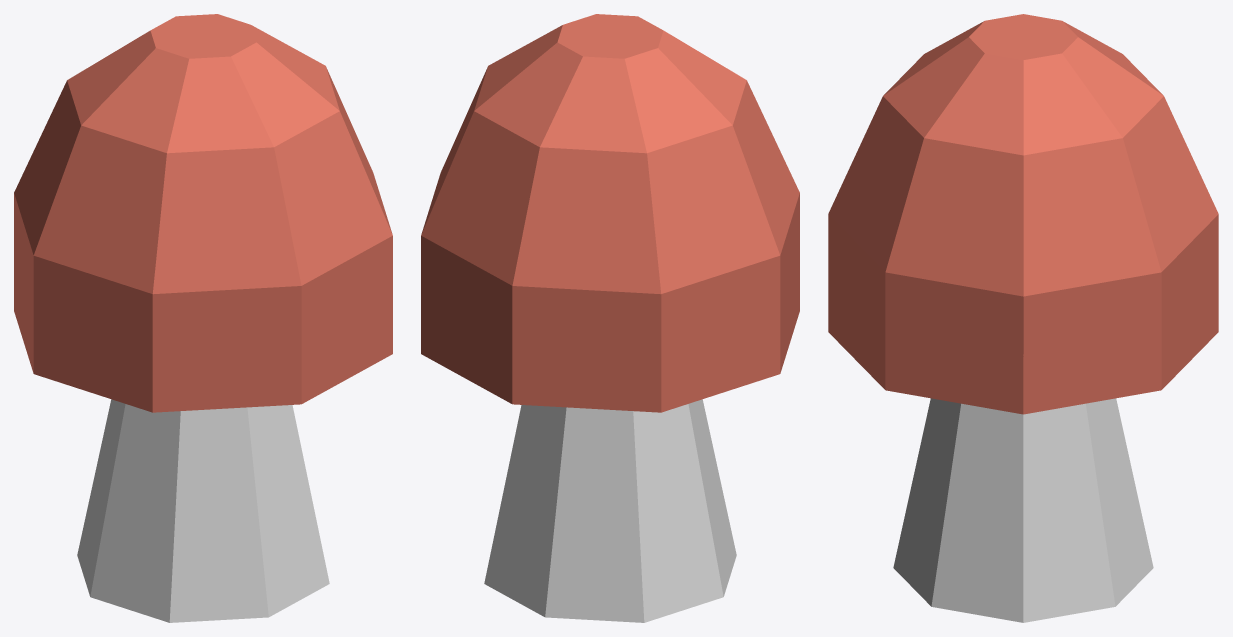
Rendered from Mushroom1a.fbx.
The picture shows the model from 3 angles, left to right: view 1: azimuth 30°, elevation 25°; view 2: azimuth 150°, elevation 25°; view 3: azimuth 270°, elevation 25°; orthographic projection.
Parts seen in each view (by area): view 1: Circle; view 2: Circle; view 3: Circle.
Boxes of the visible parts, x1,y1,x2,y2 form: Circle: [14, 14, 392, 622]; Circle: [421, 14, 799, 622]; Circle: [828, 14, 1218, 622].
Bounding box in the file's own units: 30 × 45 × 30.
